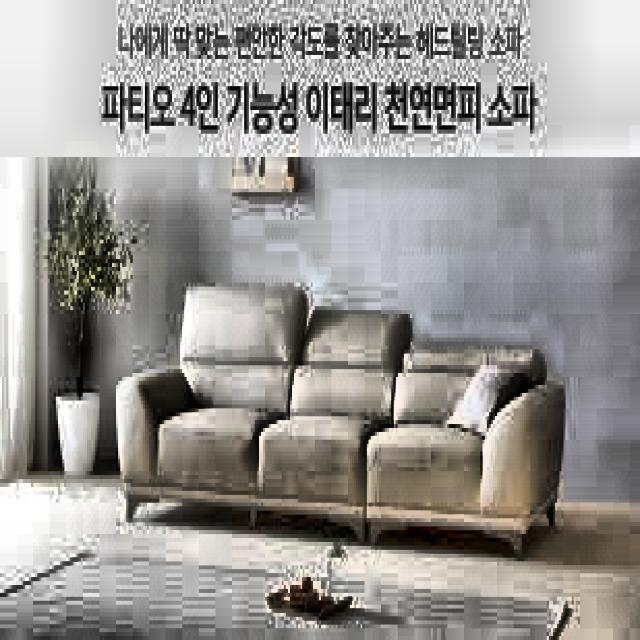sofa: (116, 291, 580, 554)
